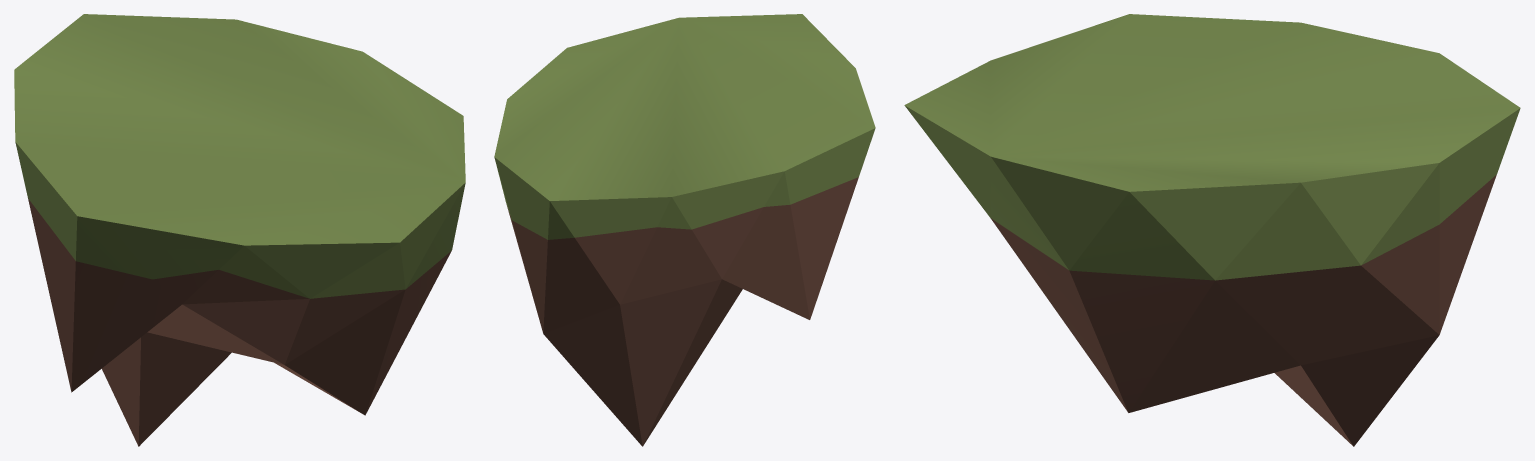
File: lvl2-bloqueDespuesDeMuro.fbx
3 renders of one model, left to right at view 1: azimuth 30°, elevation 25°; view 2: azimuth 150°, elevation 25°; view 3: azimuth 270°, elevation 25°, orthographic. The views are drawn at different scales.
Visible parts, largest first — view 1: Icosphere.005; view 2: Icosphere.005; view 3: Icosphere.005.
Part boxes in pixels (bbox=[...]): Icosphere.005: bbox=[14, 14, 465, 446]; Icosphere.005: bbox=[494, 14, 875, 446]; Icosphere.005: bbox=[904, 14, 1520, 446].
Size of the model in its own units: 2265 by 2058 by 3212.
